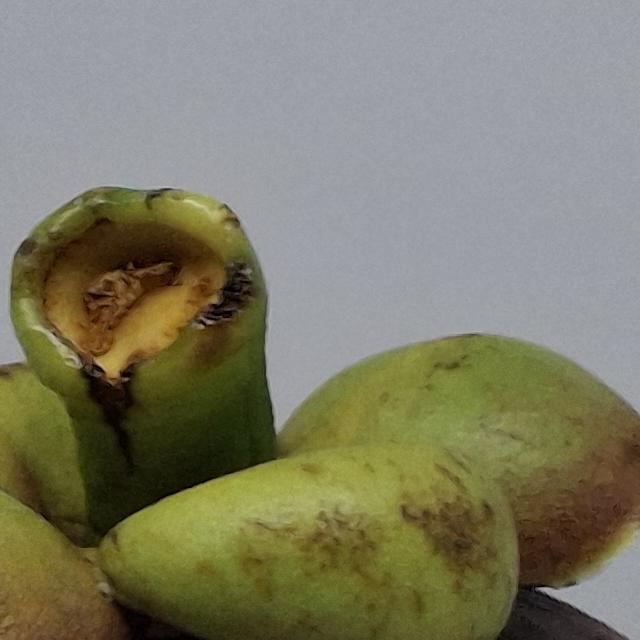mangosteen: (0, 120, 640, 640)
